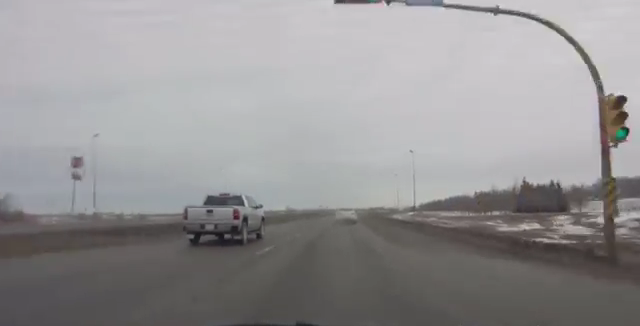car: (181, 193, 266, 245), (333, 206, 357, 224)
